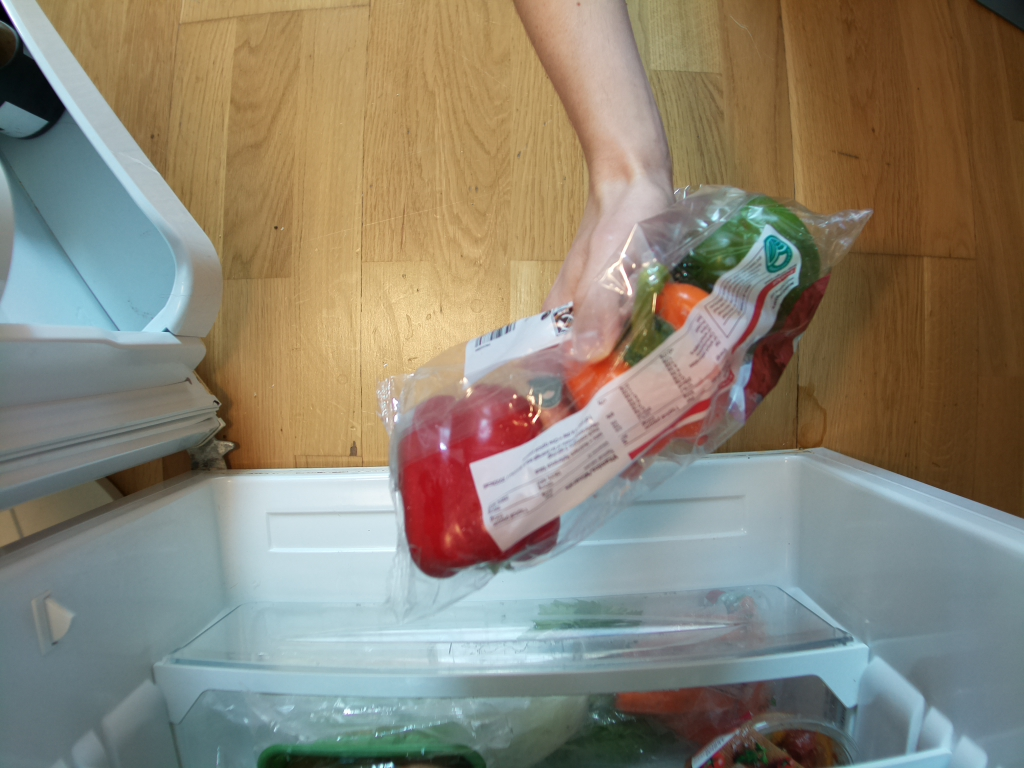pepper: (389, 381, 567, 582), (563, 270, 729, 452), (675, 187, 826, 327)
